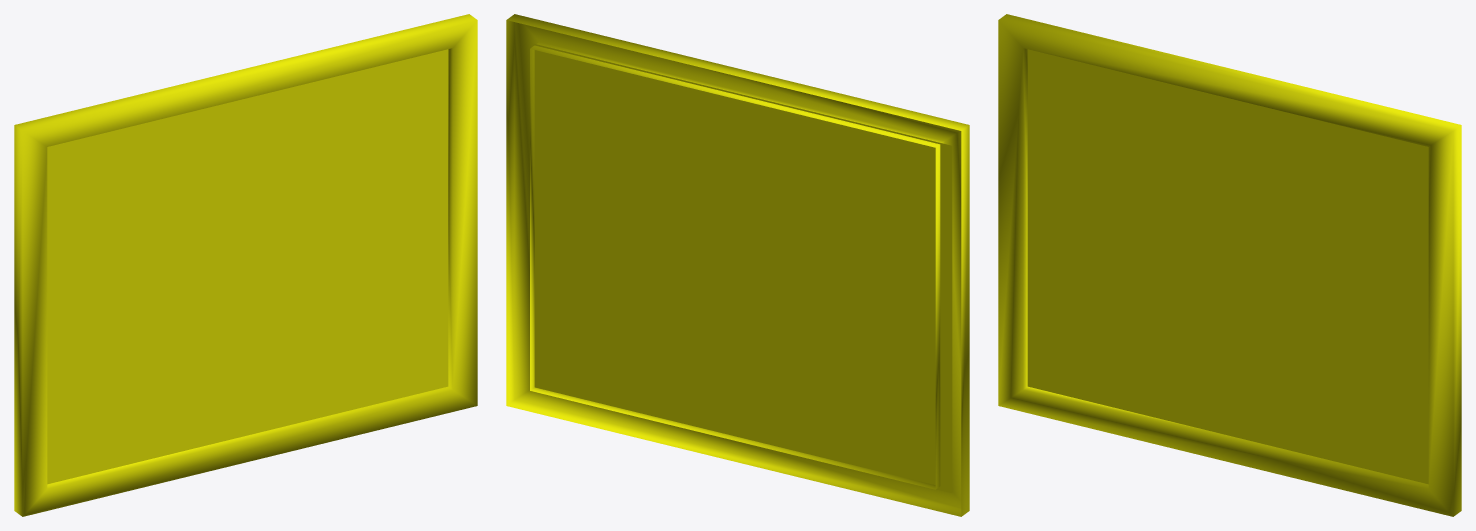
The model's file is MARCO.fbx.
3 renders of one model, left to right at view 1: azimuth 30°, elevation 25°; view 2: azimuth 150°, elevation 25°; view 3: azimuth 330°, elevation 25°, orthographic.
Parts seen in each view (by area): view 1: MARCO; view 2: MARCO; view 3: MARCO.
Boxes of the visible parts, <box> form: MARCO: <box>14,14,477,516</box>; MARCO: <box>506,14,969,516</box>; MARCO: <box>998,14,1461,516</box>.
Bounding box in the file's own units: 1.54 × 1.25 × 0.0546.
